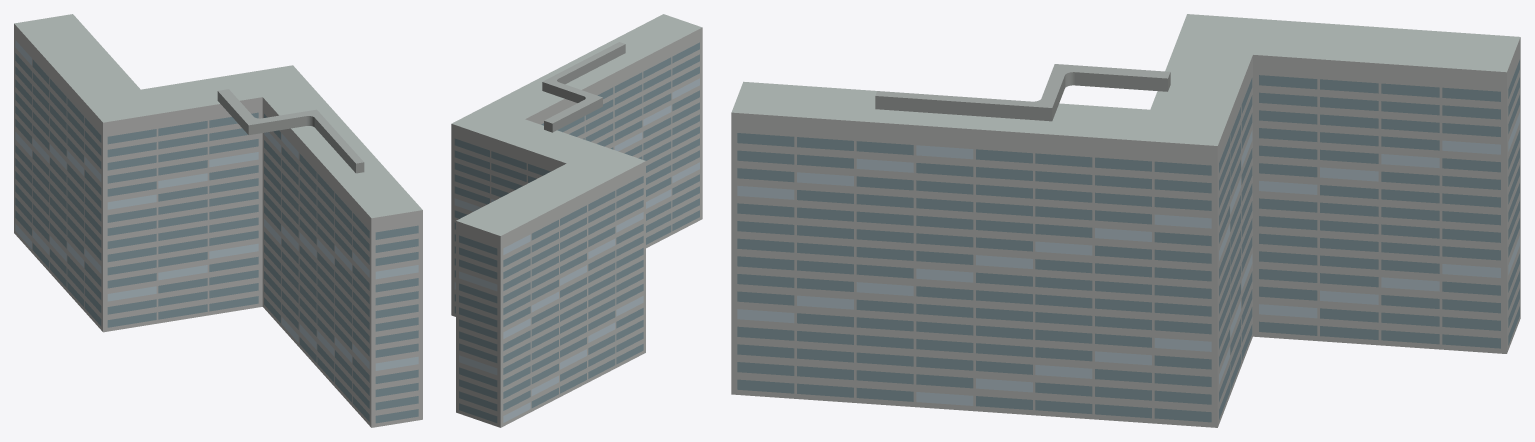
The model's file is apt-a13486705.glb.
3 views of the same model, side by side, from view 1: azimuth 30°, elevation 25°; view 2: azimuth 150°, elevation 25°; view 3: azimuth 270°, elevation 25° (orthographic). The views are drawn at different scales.
Visible parts, largest first — view 1: apt-a13486705; view 2: apt-a13486705; view 3: apt-a13486705.
Boxes of the visible parts, x1=… form: apt-a13486705: x1=14, y1=14, x2=422, y2=427; apt-a13486705: x1=451, y1=14, x2=702, y2=427; apt-a13486705: x1=731, y1=14, x2=1520, y2=427.
Size of the model in its own units: 42.22 by 44 by 107.
